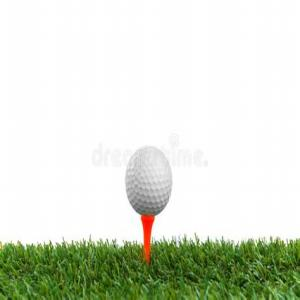Golf: (124, 145, 175, 216)
